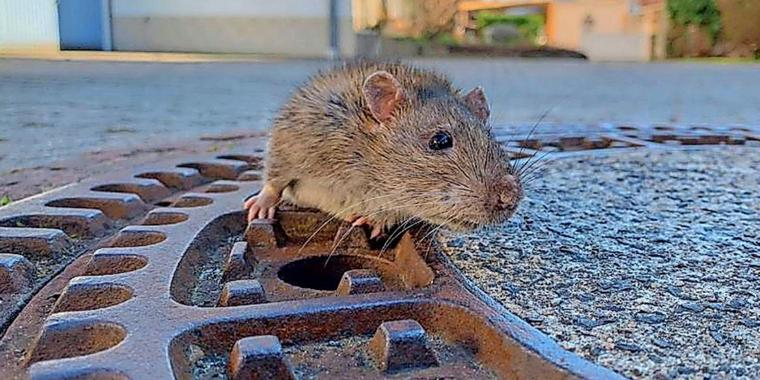rat: (232, 48, 538, 253)
